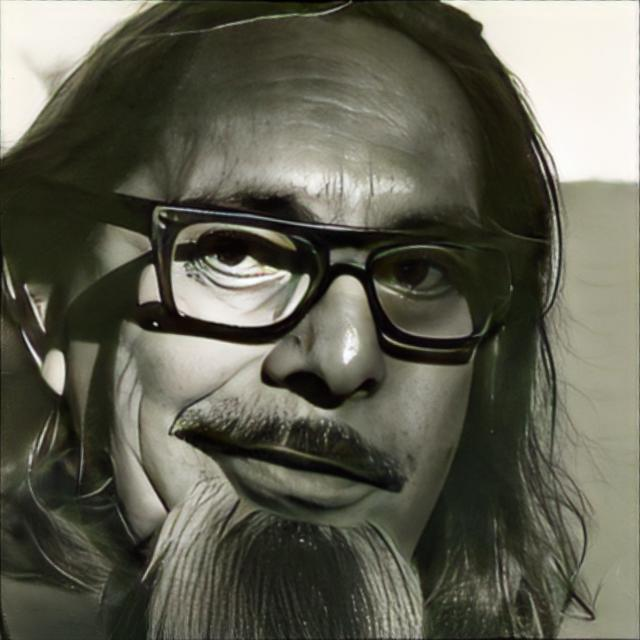content: (68, 10, 492, 568)
